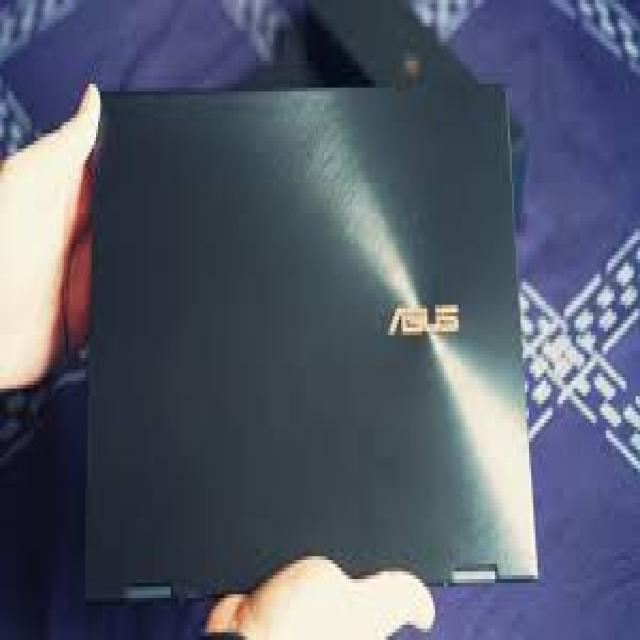laptop: (85, 83, 539, 584)
